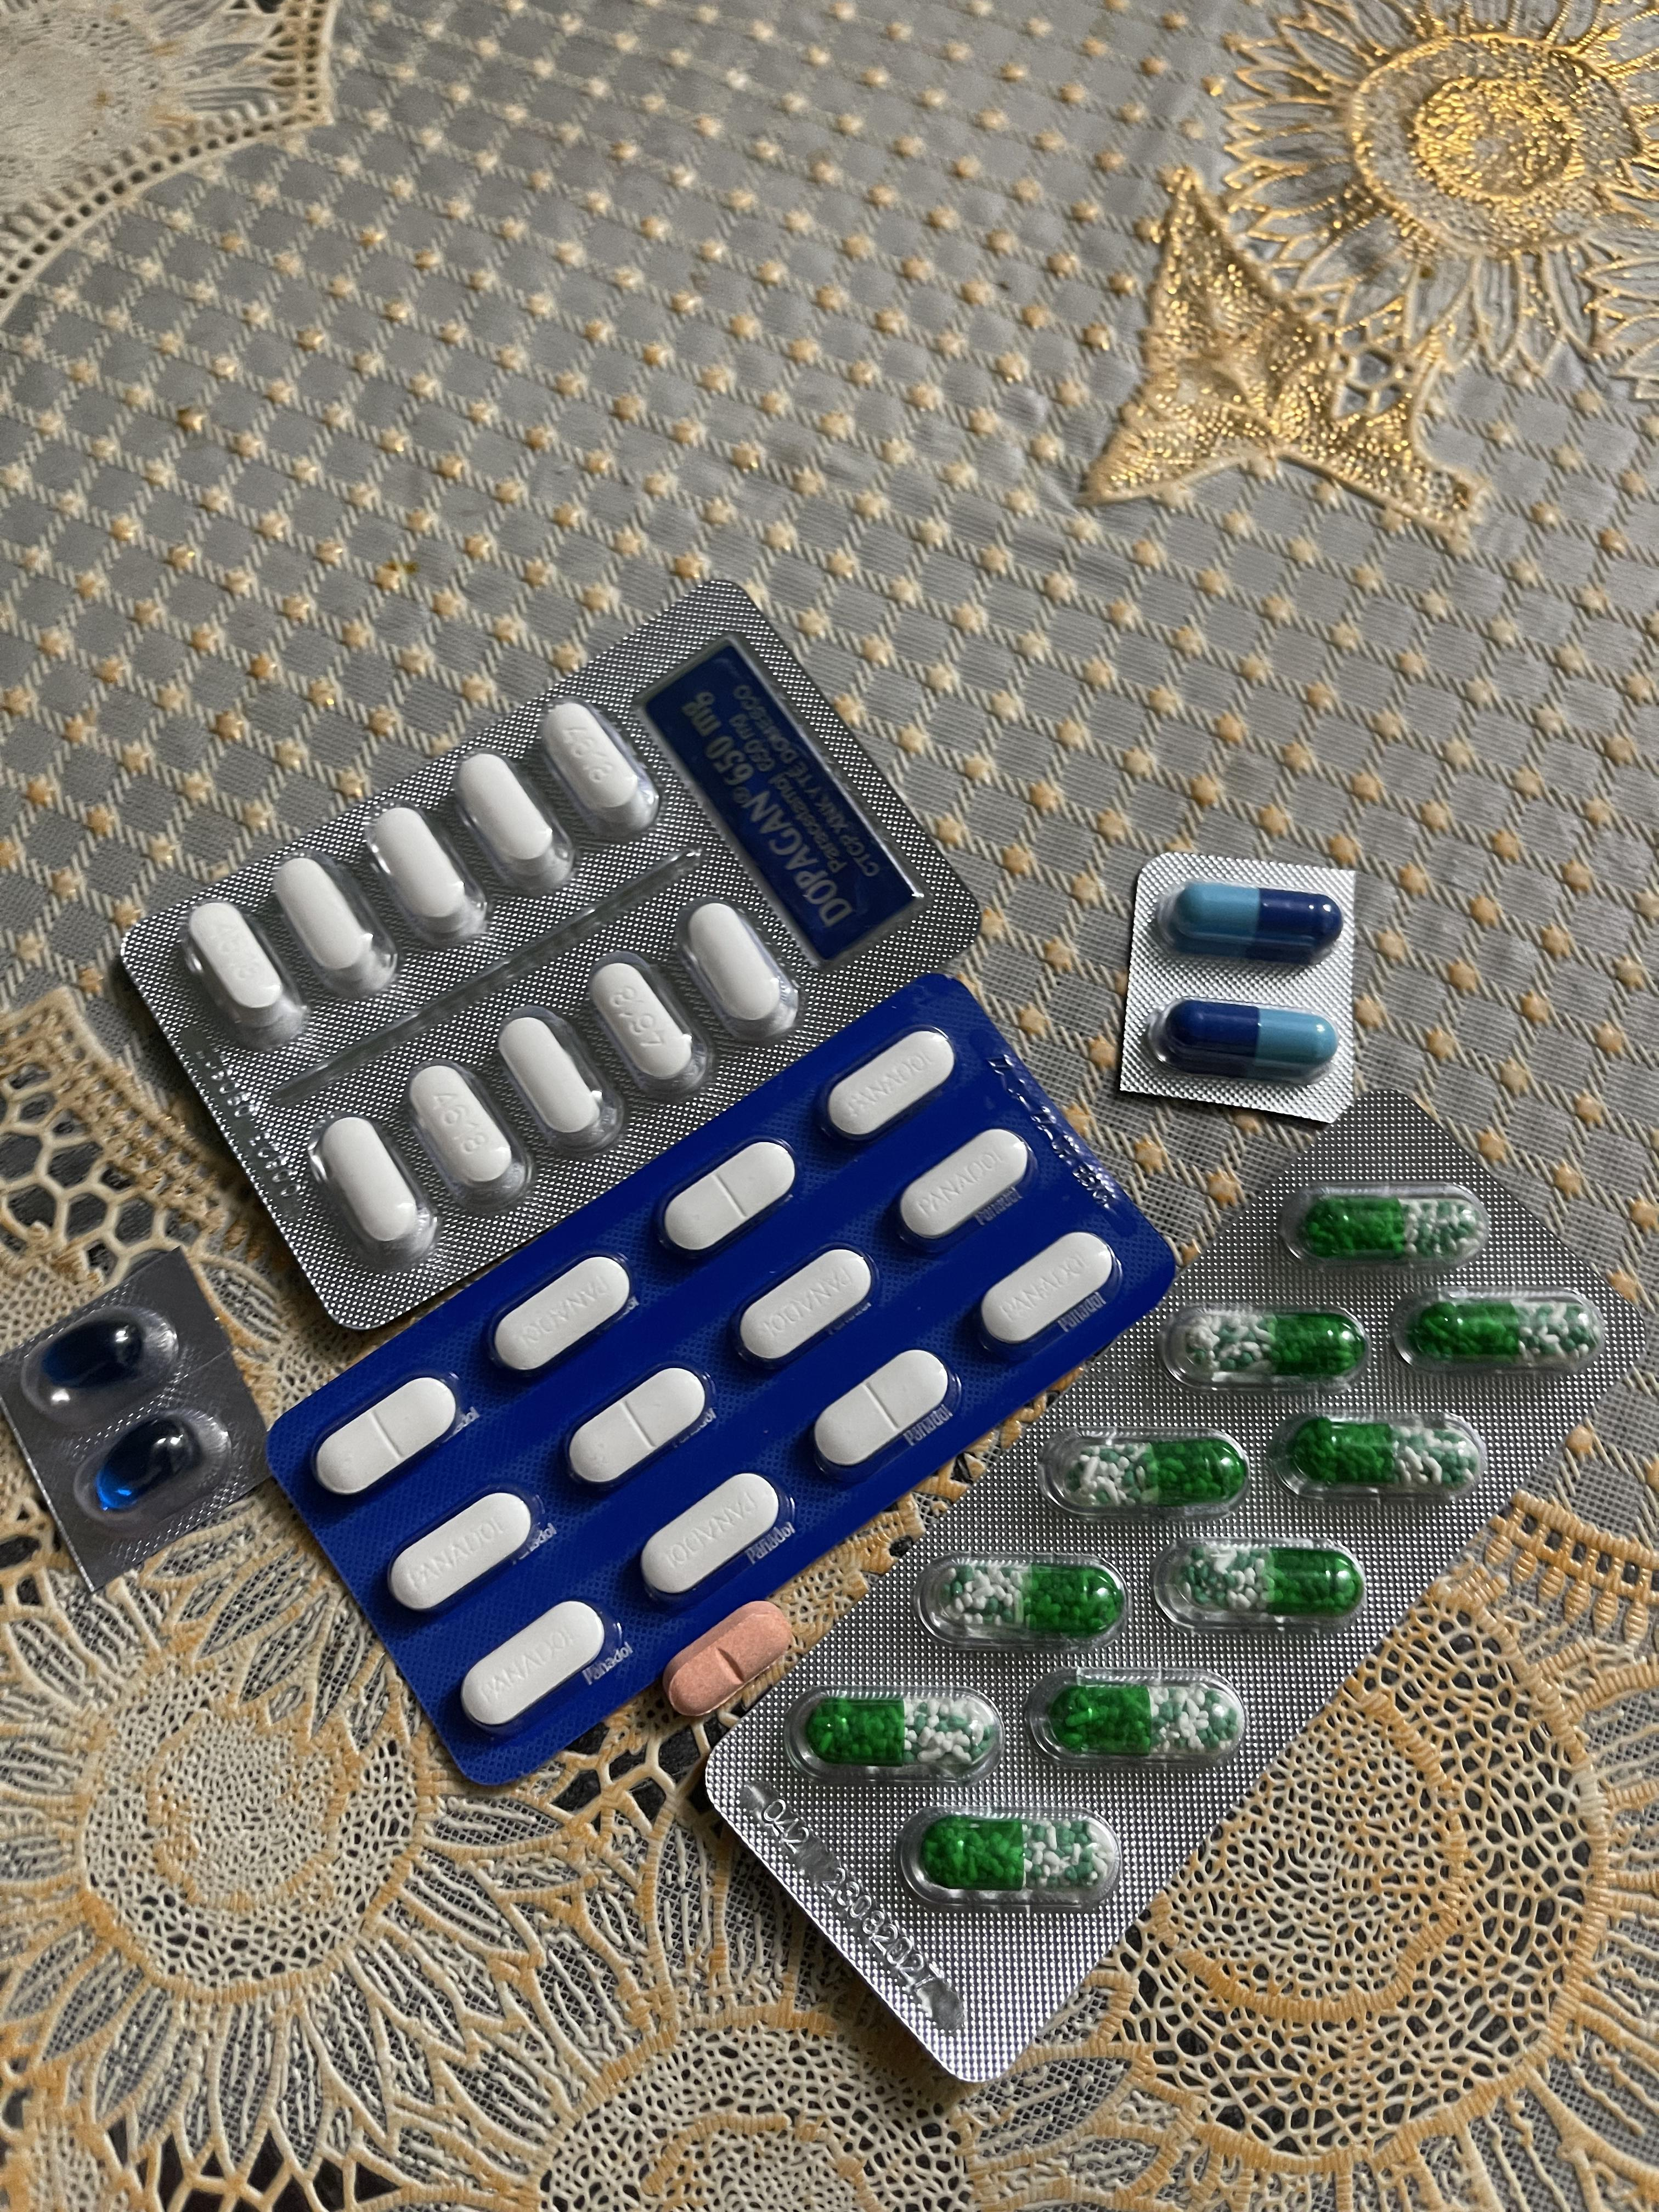Lincomyxin_500mg: (89, 1411, 204, 1512), (40, 1312, 155, 1393)
Loratadine_10mg: (664, 1597, 791, 1716)
Paracetamol_350mg: (641, 1474, 786, 1601), (460, 1602, 605, 1728), (568, 1364, 709, 1487), (389, 1493, 533, 1611), (490, 1256, 634, 1374), (814, 1350, 950, 1475), (315, 1374, 457, 1494), (734, 1245, 873, 1366), (979, 1231, 1121, 1348), (896, 1125, 1033, 1242), (657, 1136, 796, 1251), (828, 1033, 962, 1134)
Paracetamol_500mg: (446, 751, 575, 897), (181, 902, 307, 1050), (582, 958, 708, 1096), (272, 853, 392, 995), (538, 697, 662, 833), (364, 806, 481, 942), (319, 1116, 423, 1247), (408, 1069, 518, 1191), (498, 1015, 606, 1137), (688, 900, 793, 1022)
Paracetamol_650mg: (1267, 1411, 1480, 1508), (786, 1686, 992, 1785), (1032, 1669, 1232, 1764), (1060, 1430, 1248, 1524), (915, 1817, 1105, 1892), (1173, 1547, 1366, 1616), (939, 1564, 1117, 1634), (1408, 1301, 1600, 1362), (1297, 1197, 1476, 1258), (1190, 1313, 1359, 1378)
pill: (1154, 1000, 1335, 1083), (1166, 883, 1347, 965)
